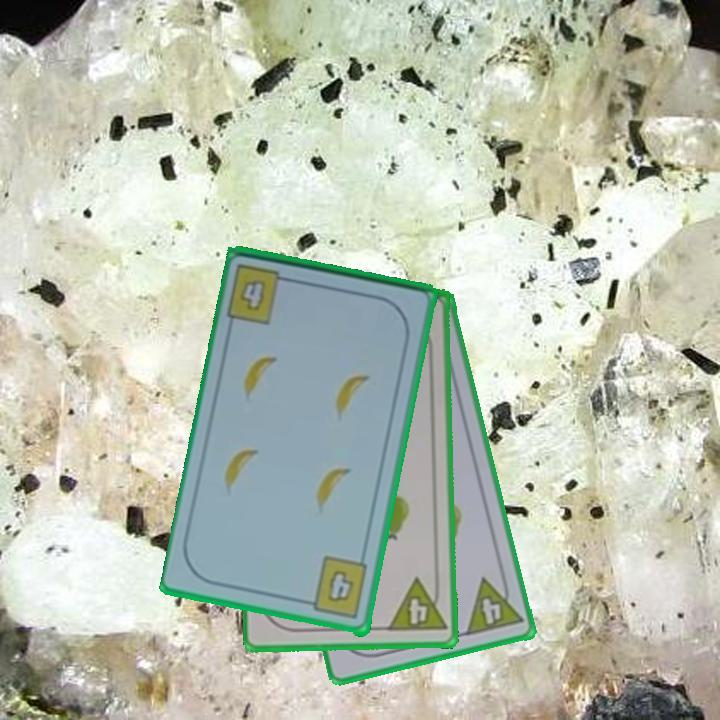4b: (224, 260, 297, 328), (300, 554, 371, 623)
4p: (462, 570, 526, 639), (384, 574, 449, 635)
